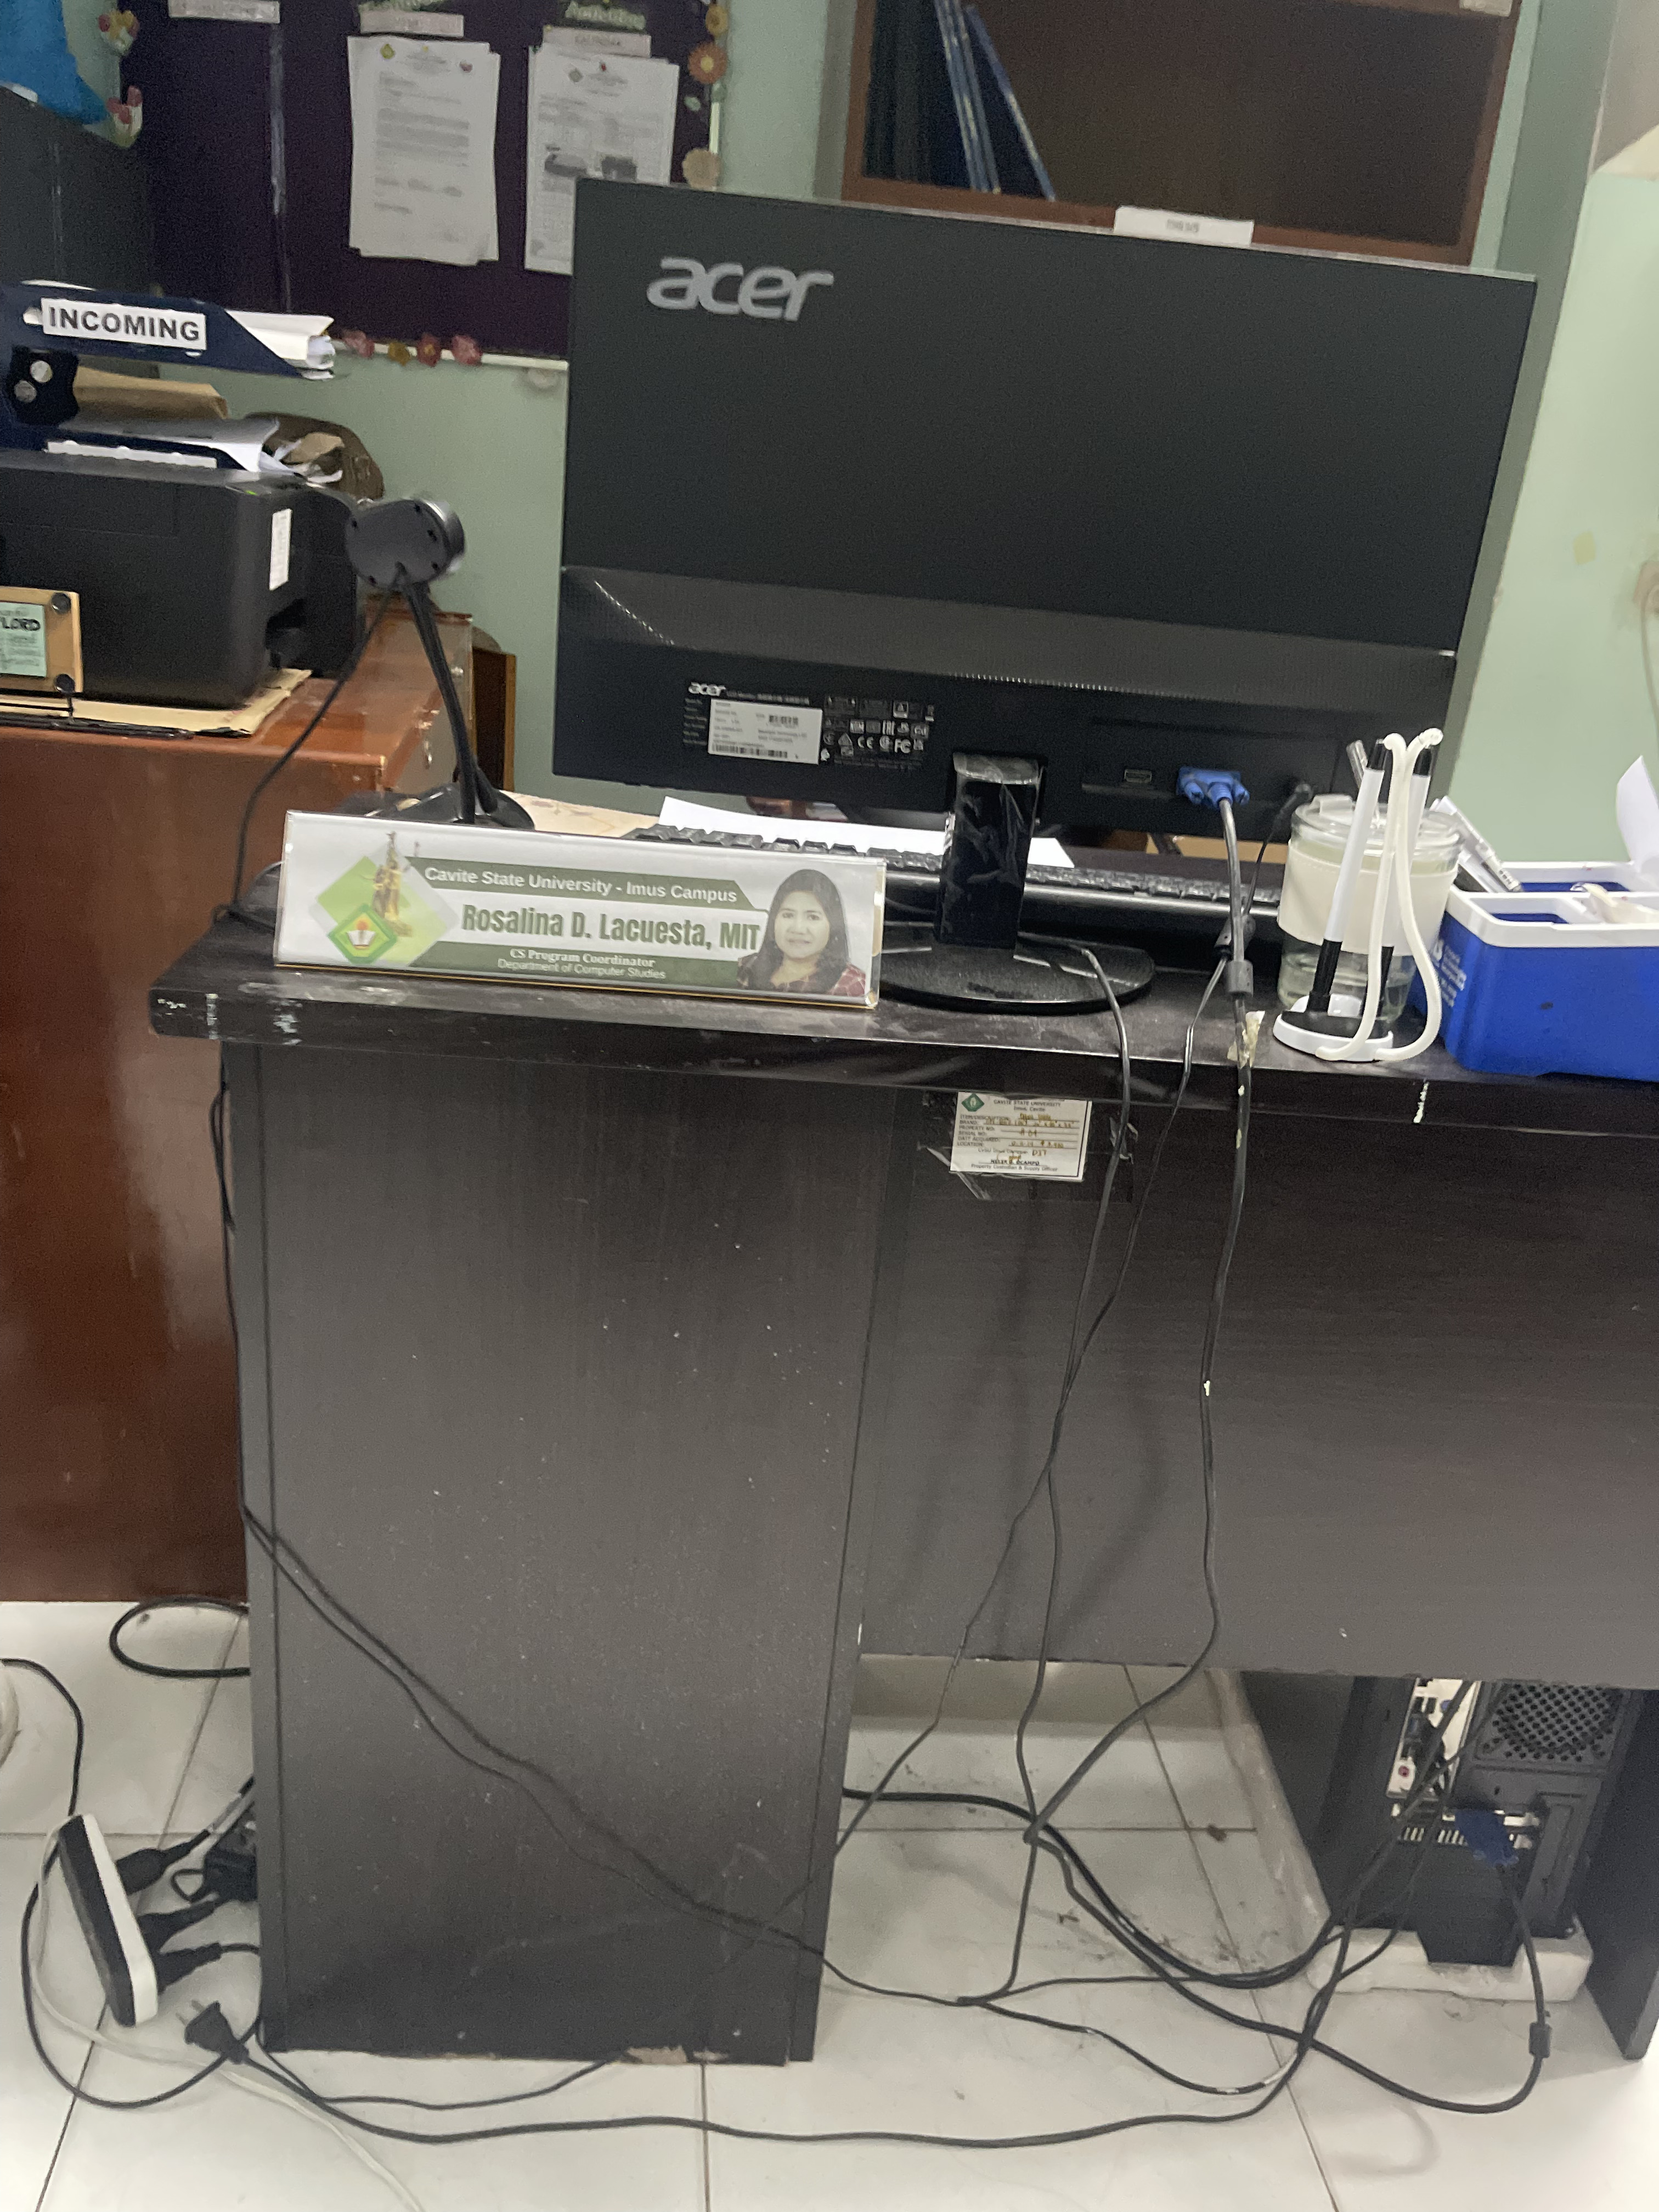table1: (138, 779, 1659, 2095)
